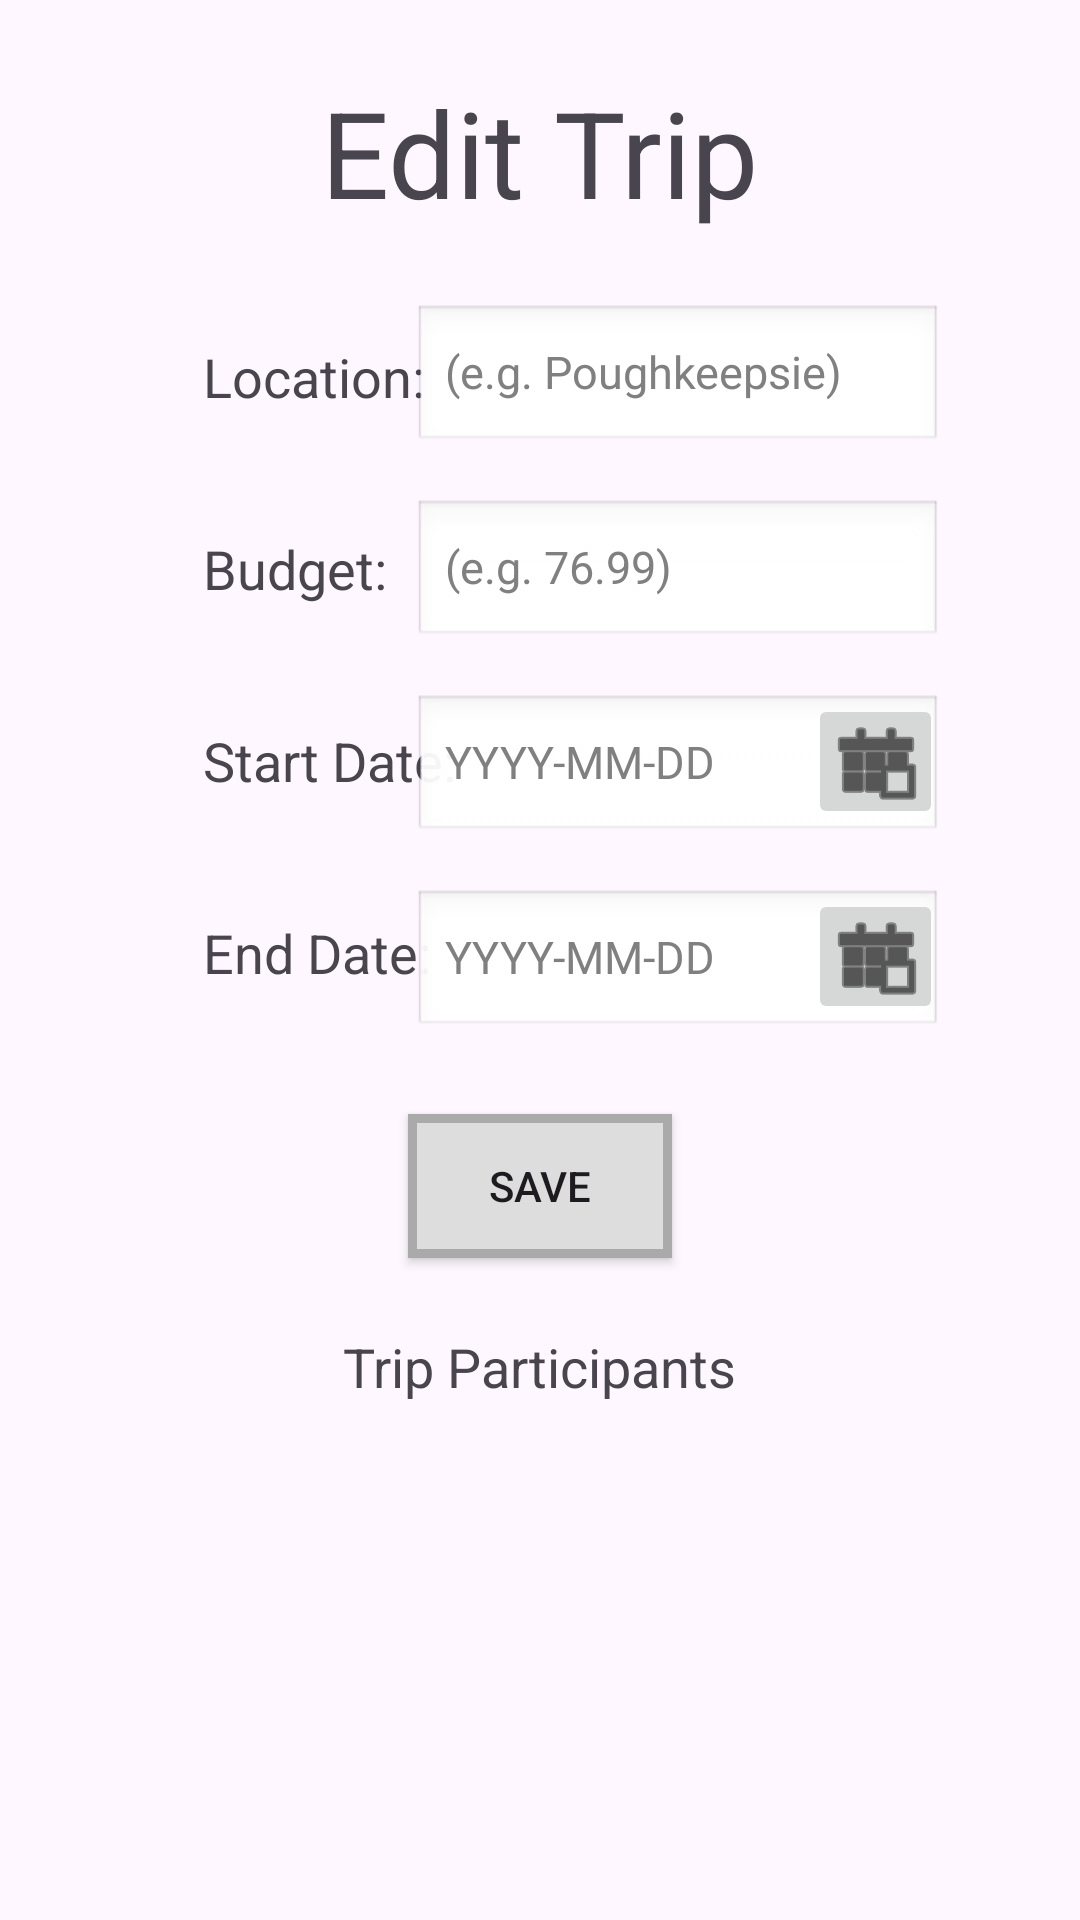

Named icons in this screenshot (1080w x 1920h) and their centers, point (x, y):
today: point (875, 761), point (875, 956)
